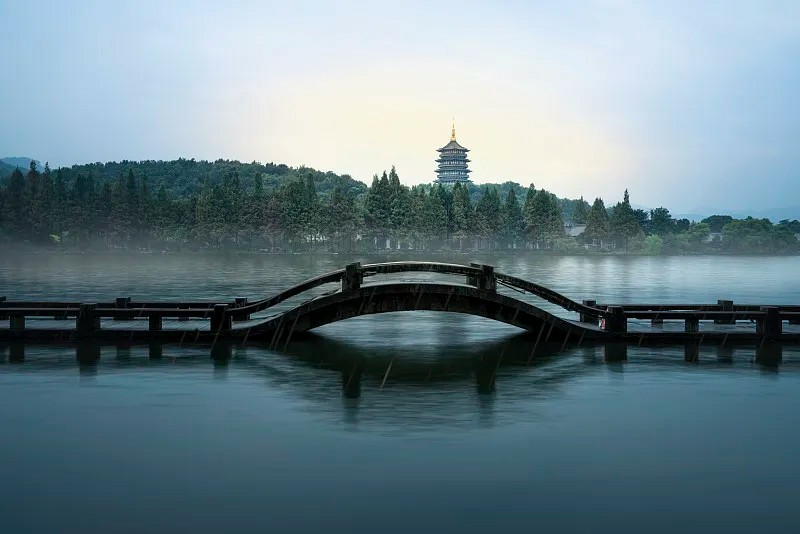Leifeng: (433, 116, 475, 188)
